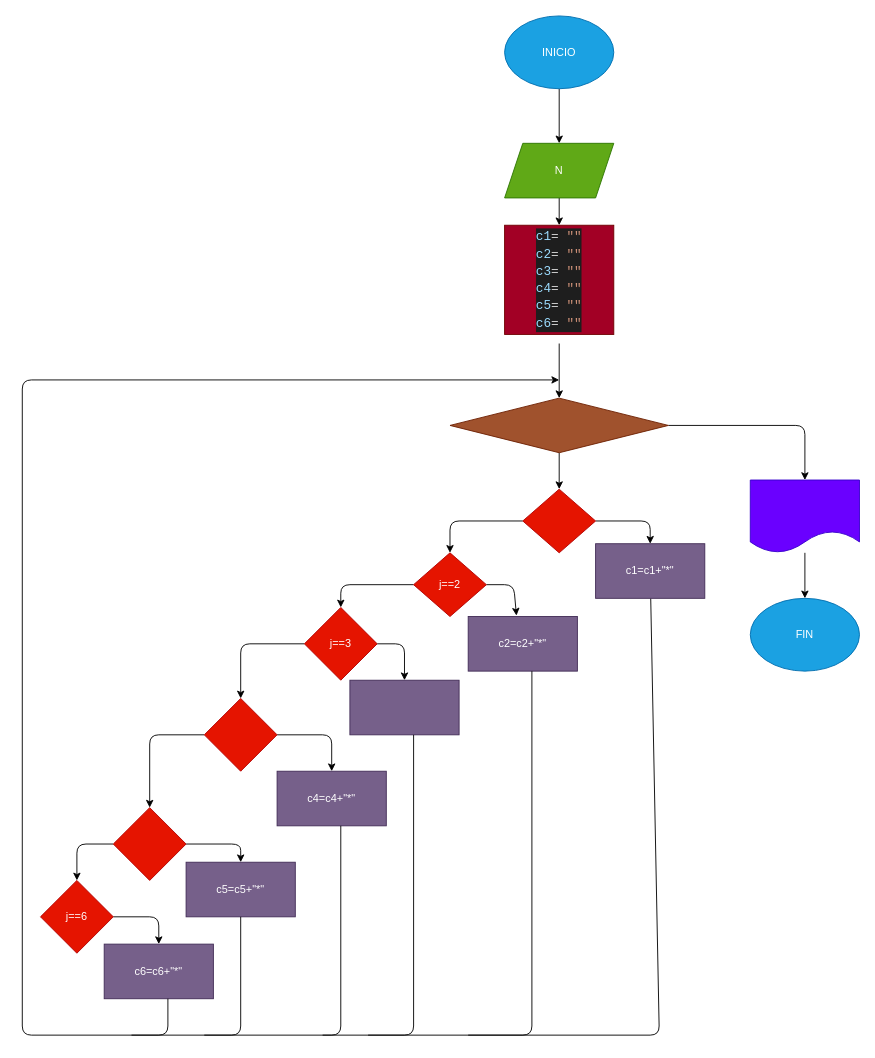
This 875x1058 diagram has some shape labels left out. The shapes that lost their labels are listed below. From the top down, each one's box as (x1, y1, x2, y2) in pixels, then its label:
(449, 397, 668, 453): for j in range(N)
(522, 488, 596, 553): j==1
(749, 479, 859, 553): RESULTADOS
(349, 679, 459, 735): c3=c3+"*"
(203, 698, 277, 771): j==4
(112, 807, 186, 880): j==5
